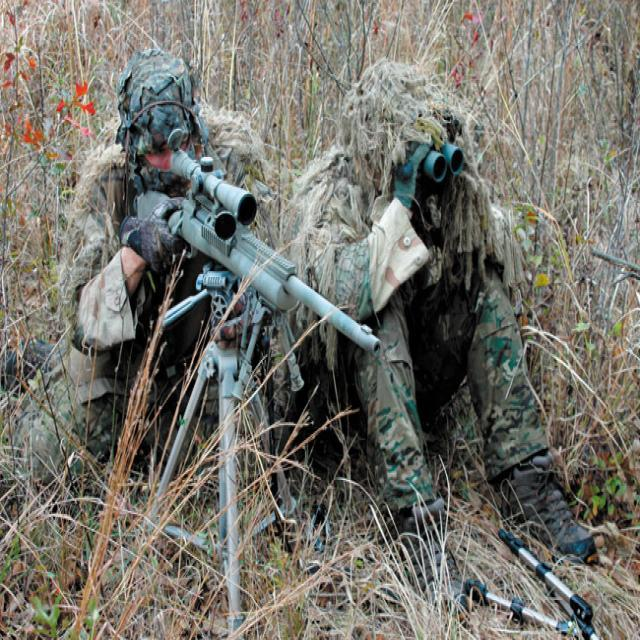rifle: (130, 136, 387, 376)
